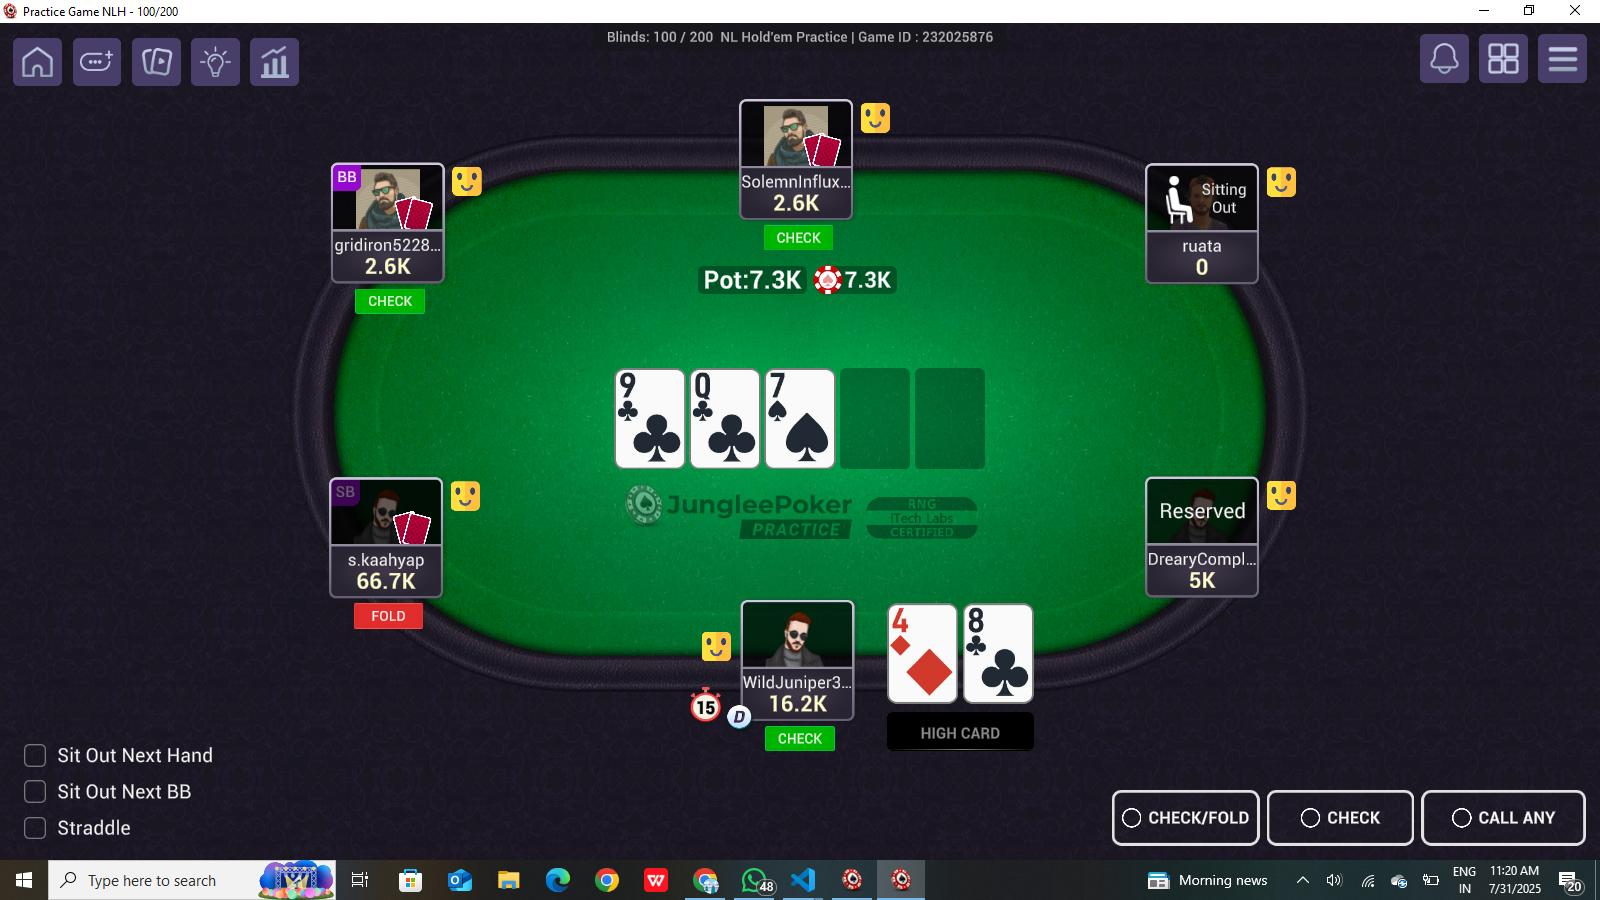card1_rank: (888, 605, 932, 640)
card1_suite_diamond: (902, 642, 957, 703)
card2_rank: (964, 607, 1020, 633)
card2_suite_club: (975, 643, 1030, 702)
flop1_rank: (619, 368, 658, 402)
flop1_suite_club: (622, 413, 684, 467)
flop2_rank: (693, 371, 746, 403)
flop2_suite_club: (702, 410, 758, 467)
flop3_rank: (767, 368, 800, 402)
flop3_suite_spades: (777, 407, 832, 465)
game_id: (852, 23, 1013, 57)
my_stack: (767, 690, 836, 722)
position_BB: (330, 164, 362, 193)
position_SB: (330, 480, 362, 509)
total_pot: (702, 265, 903, 295)
villian1_name: (333, 540, 438, 567)
villian1_stack: (349, 570, 426, 597)
villian2_name: (333, 233, 443, 257)
villian2_stack: (355, 257, 420, 281)
villian3_name: (740, 167, 852, 190)
villian3_stack: (764, 188, 829, 219)
villian4_name: (1154, 232, 1254, 254)
villian4_stack: (1174, 255, 1238, 278)
villian5_name: (1145, 545, 1257, 571)
villian5_stack: (1165, 568, 1222, 593)
